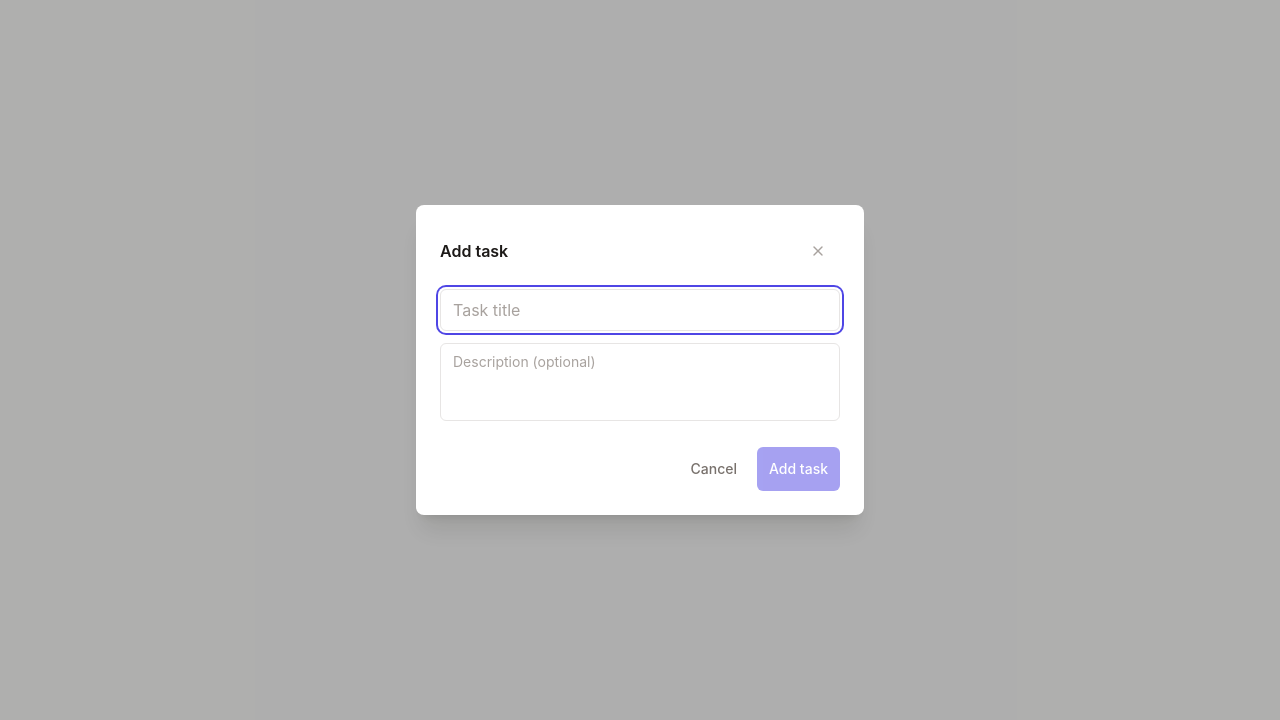
it: AddTaskModal › enables the Add task button when title has content
In the field labelled "Task title": {"x": 640, "y": 310} [440, 289, 840, 331], type "New task"
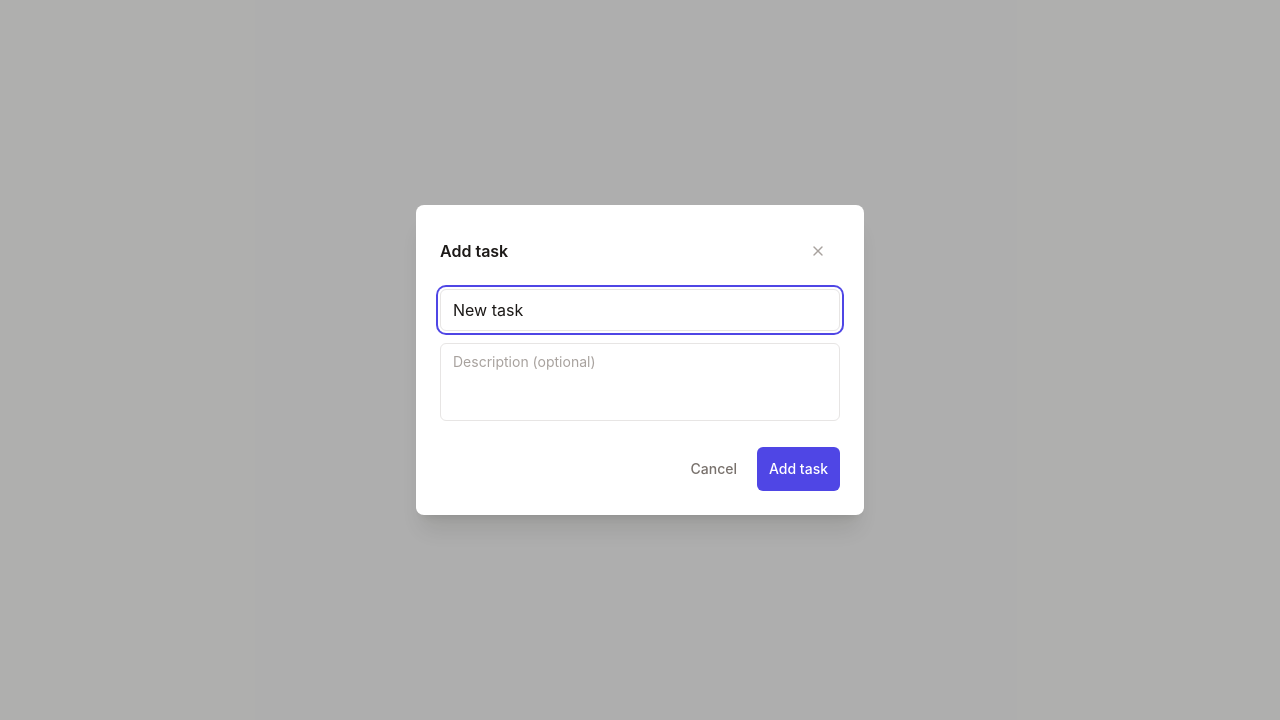
Expected: the button "Add task" is enabled, [757, 447, 840, 491]
